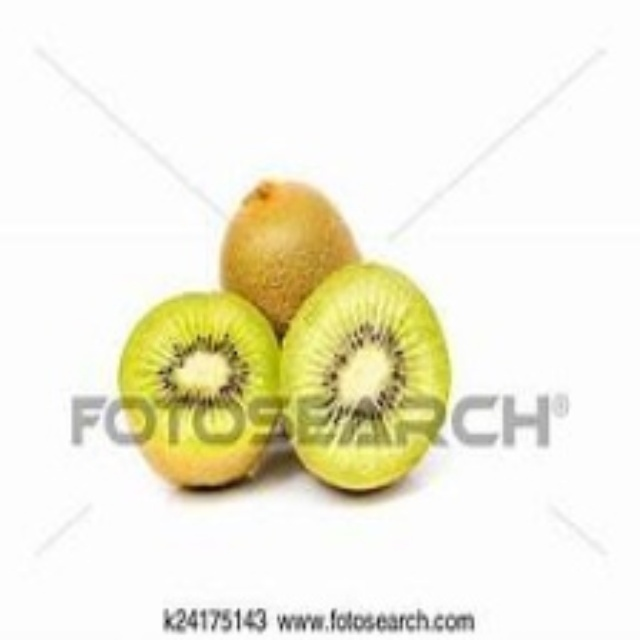kiwi: (282, 262, 452, 496), (118, 303, 273, 488), (217, 169, 354, 323)
